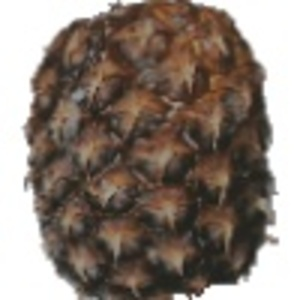abacaxi: (14, 1, 282, 299)
